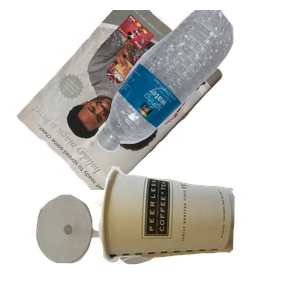glass: (34, 192, 187, 300)
paper: (14, 10, 229, 190)
plastic: (94, 10, 300, 154)
trash: (95, 164, 300, 300)
